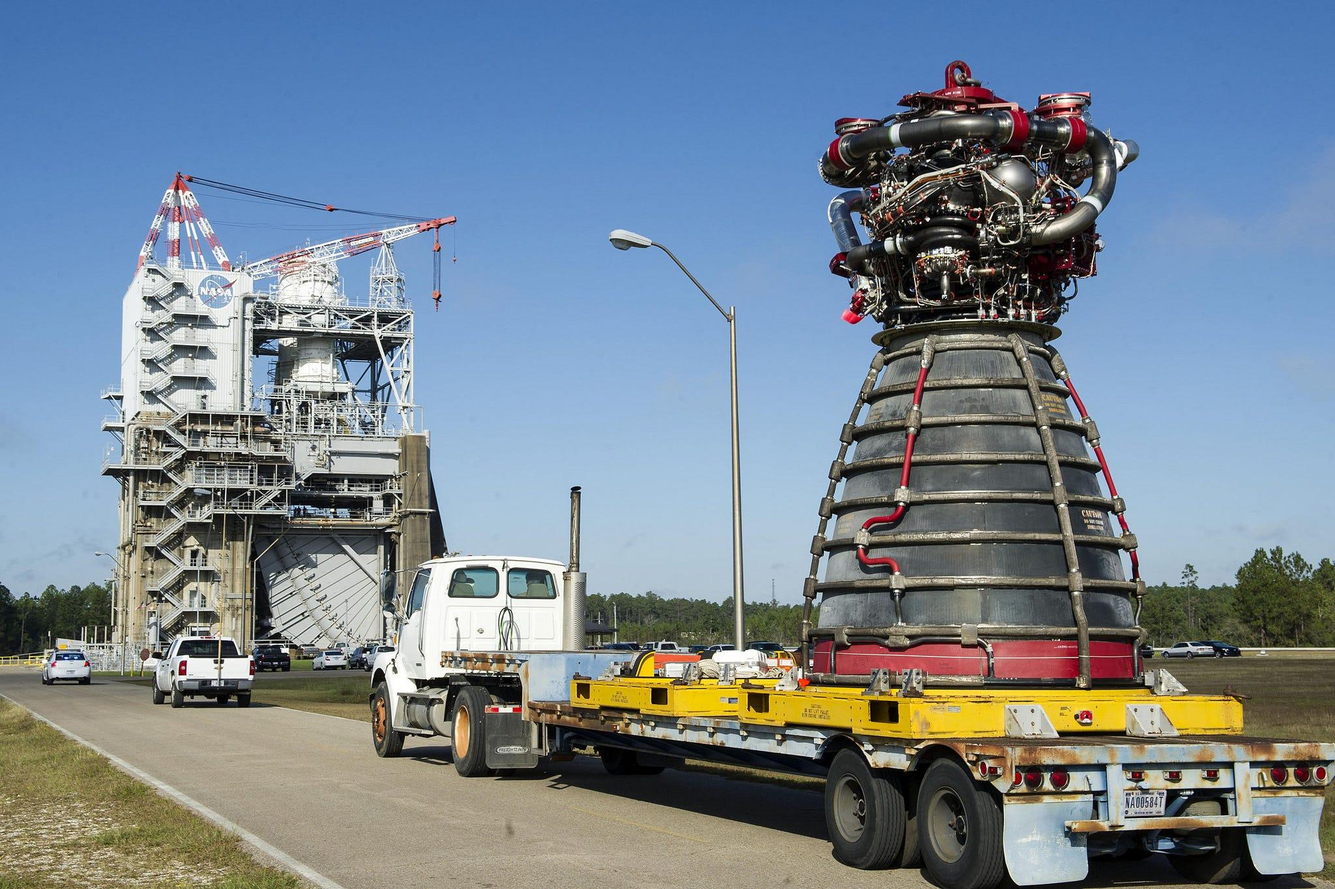thruster: (791, 323, 1153, 692)
